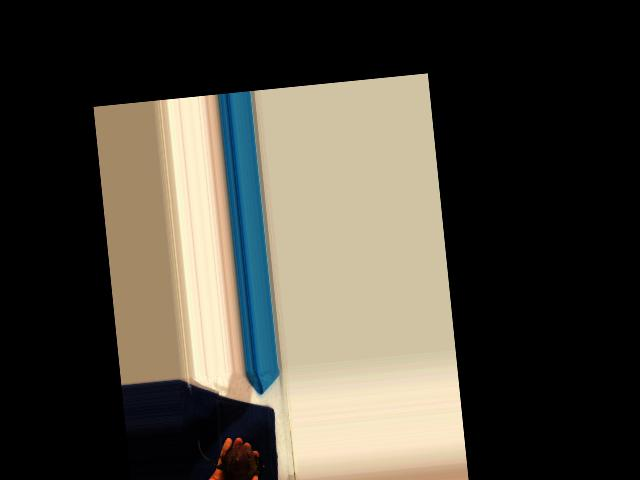beet: (197, 432, 266, 480)
